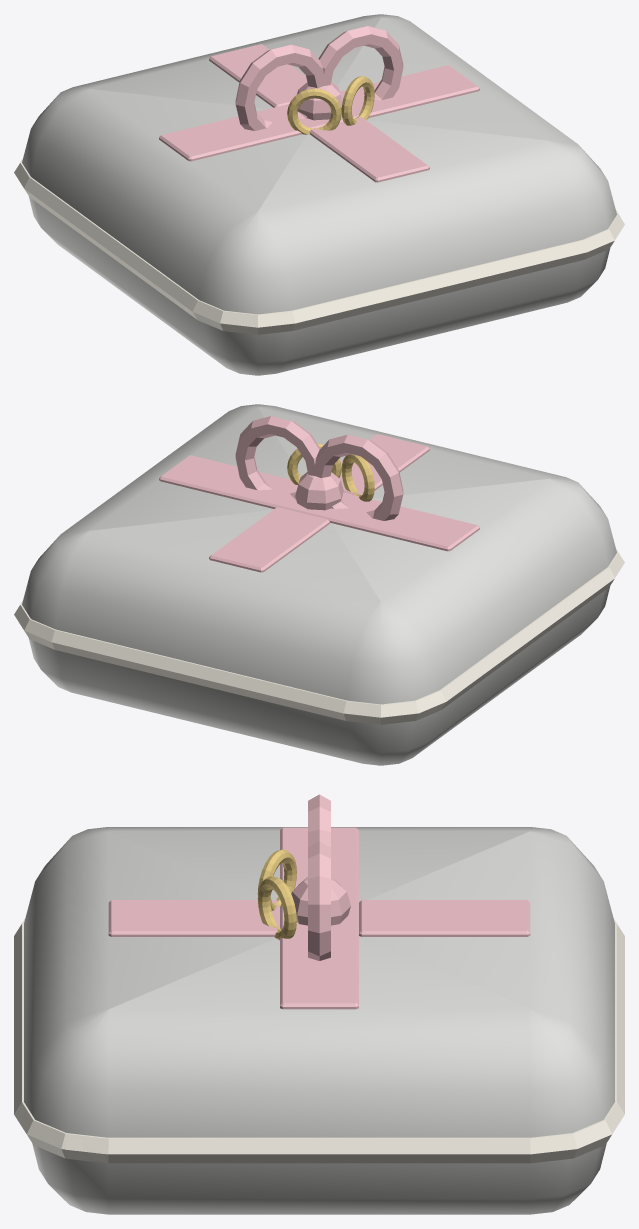
File: wedding-and-chapel-kit-ring-pillow-7c1a7748__39399.glb
The picture shows the model from 3 angles, top to bottom: view 1: azimuth 30°, elevation 25°; view 2: azimuth 150°, elevation 25°; view 3: azimuth 270°, elevation 25°; orthographic projection. The views are drawn at different scales.
Visible parts, largest first — view 1: ring-pillow; view 2: ring-pillow; view 3: ring-pillow.
Part boxes in pixels (bbox=[...]): ring-pillow: bbox=[14, 14, 624, 375]; ring-pillow: bbox=[14, 404, 624, 765]; ring-pillow: bbox=[14, 794, 624, 1214].
Size of the model in its own units: 0.232 by 0.1224 by 0.232.
